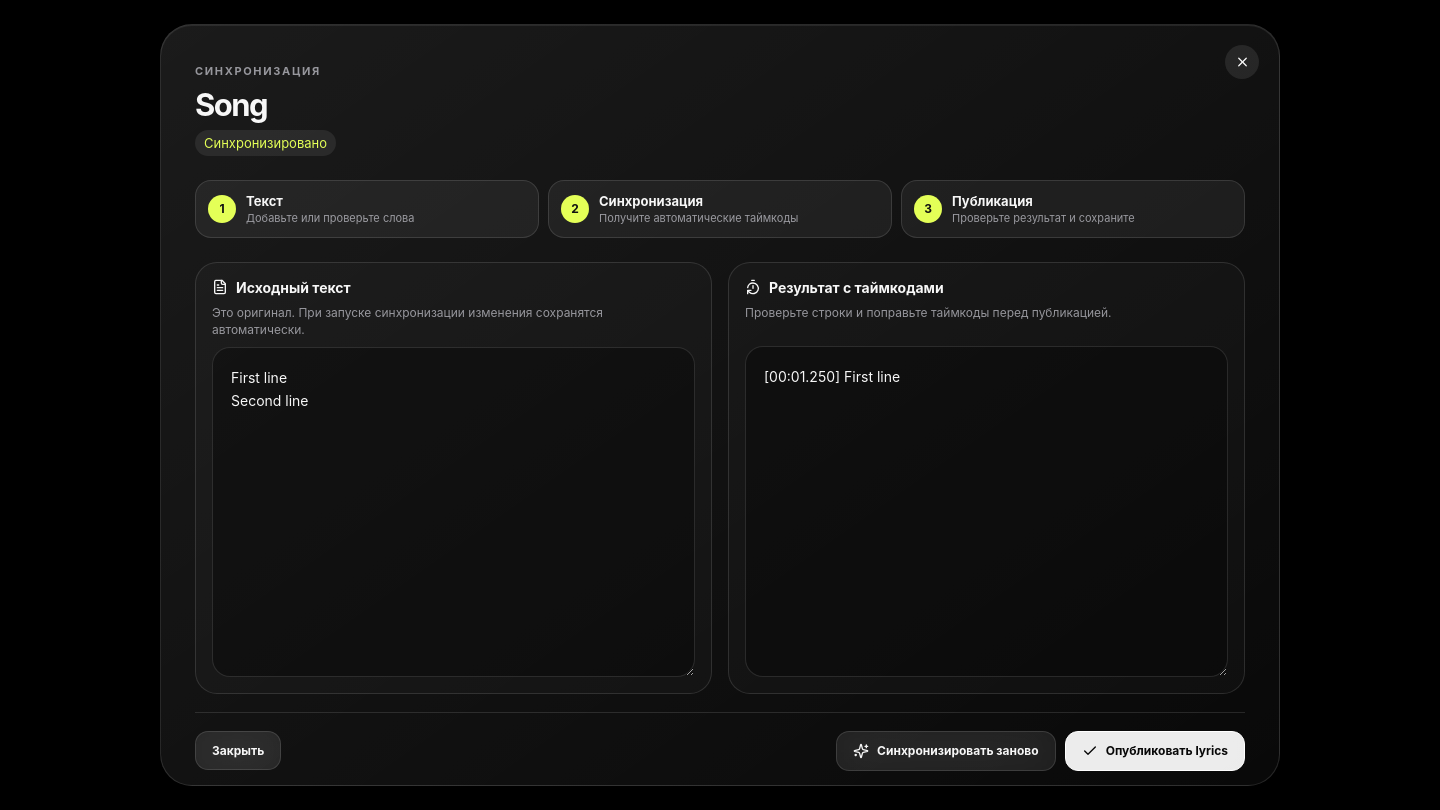
Test: saves a changed source automatically before starting alignment
Expected: the text box named "Синхронизированный LRC" holds "[00:01.250] First line", [745,346,1228,677]
Replace the text in the text box labelled "Исходный текст" with "Changed line". click: (454, 512)
box: [212,347,695,677]
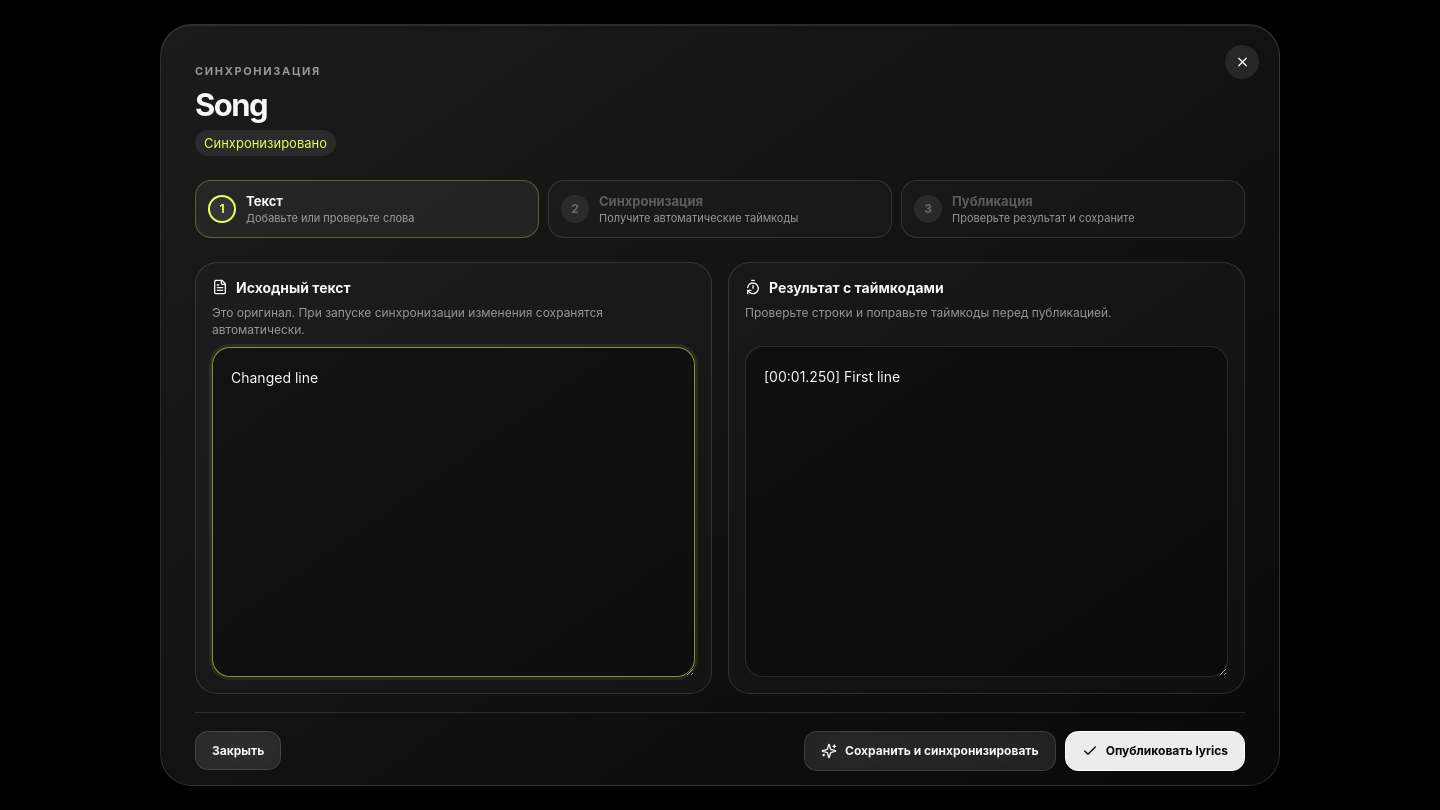
Click the button "Сохранить и синхронизировать". click: click(930, 751)
box: [804,731,1056,771]
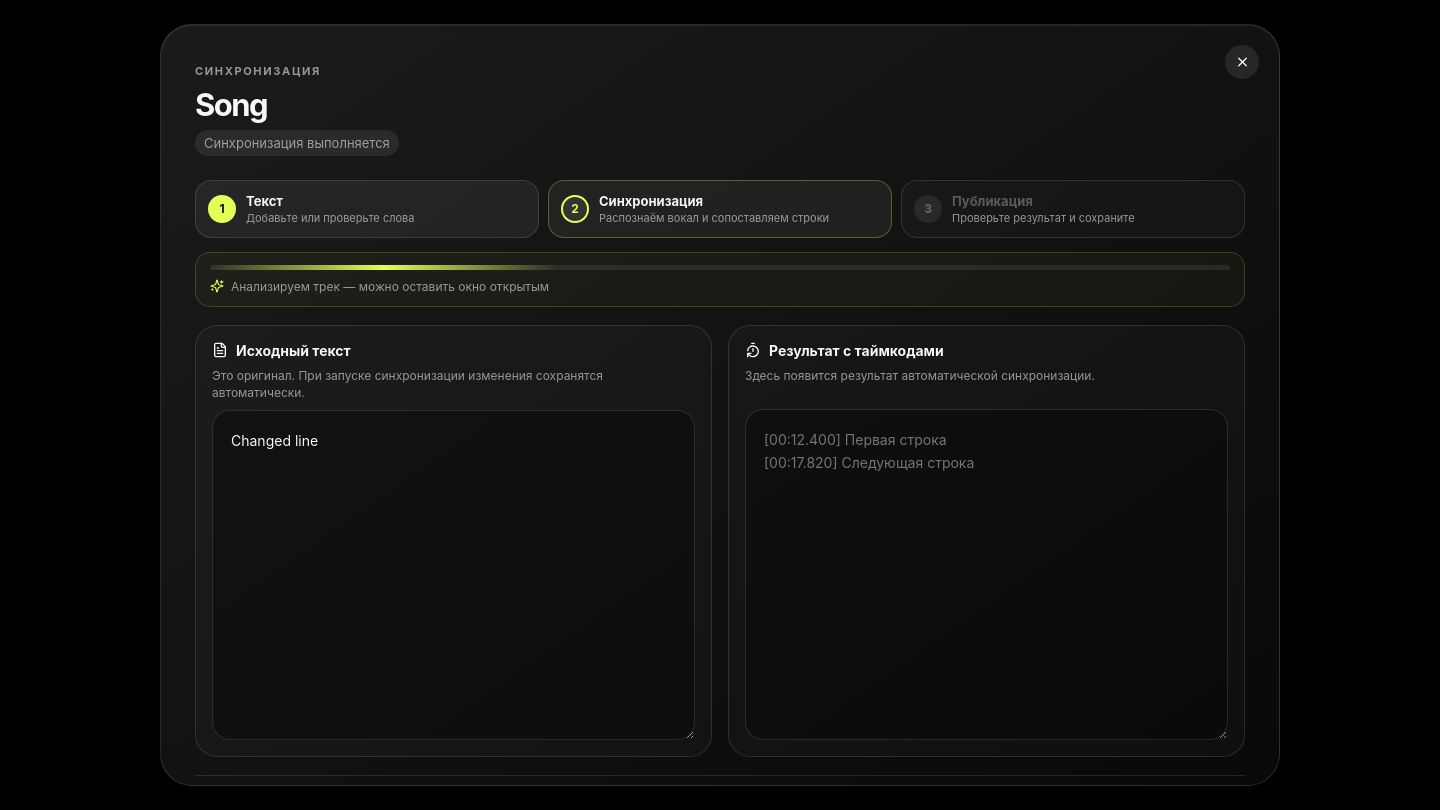
Now the text "Синхронизация выполняется" is shown, box [195,130,399,156]
Now the progress indicator named "Синхронизация lyrics выполняется" is shown, box [195,252,1245,307]
